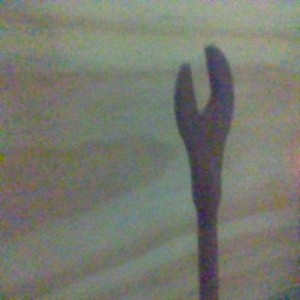spanner: (173, 43, 236, 300)
